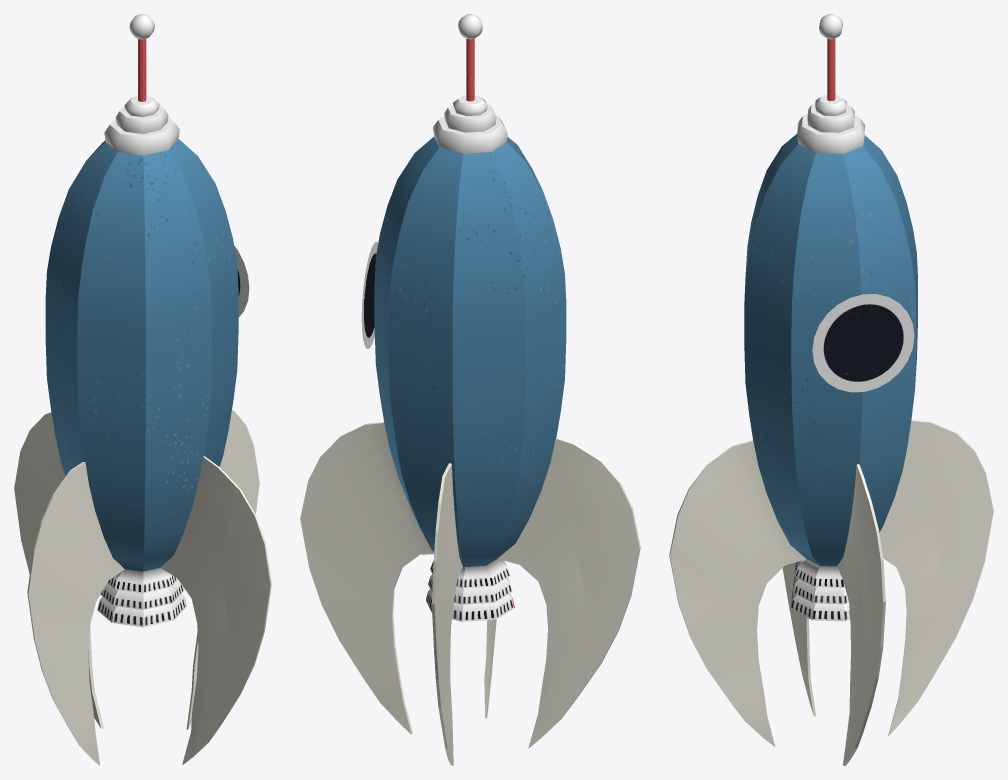
The model's file is spaceship4.glb.
3 renders of one model, left to right at view 1: azimuth 30°, elevation 25°; view 2: azimuth 150°, elevation 25°; view 3: azimuth 270°, elevation 25°, orthographic.
Visible parts, largest first — view 1: rocketship06:pCylinder2; view 2: rocketship06:pCylinder2; view 3: rocketship06:pCylinder2.
Part boxes in pixels (left/top/right/bottom): rocketship06:pCylinder2: left=14, top=14, right=271, bottom=765; rocketship06:pCylinder2: left=300, top=14, right=640, bottom=765; rocketship06:pCylinder2: left=669, top=14, right=993, bottom=765.
Size of the model in its own units: 0.976 by 2.38 by 0.9657.
6 materials, 2 textured.
